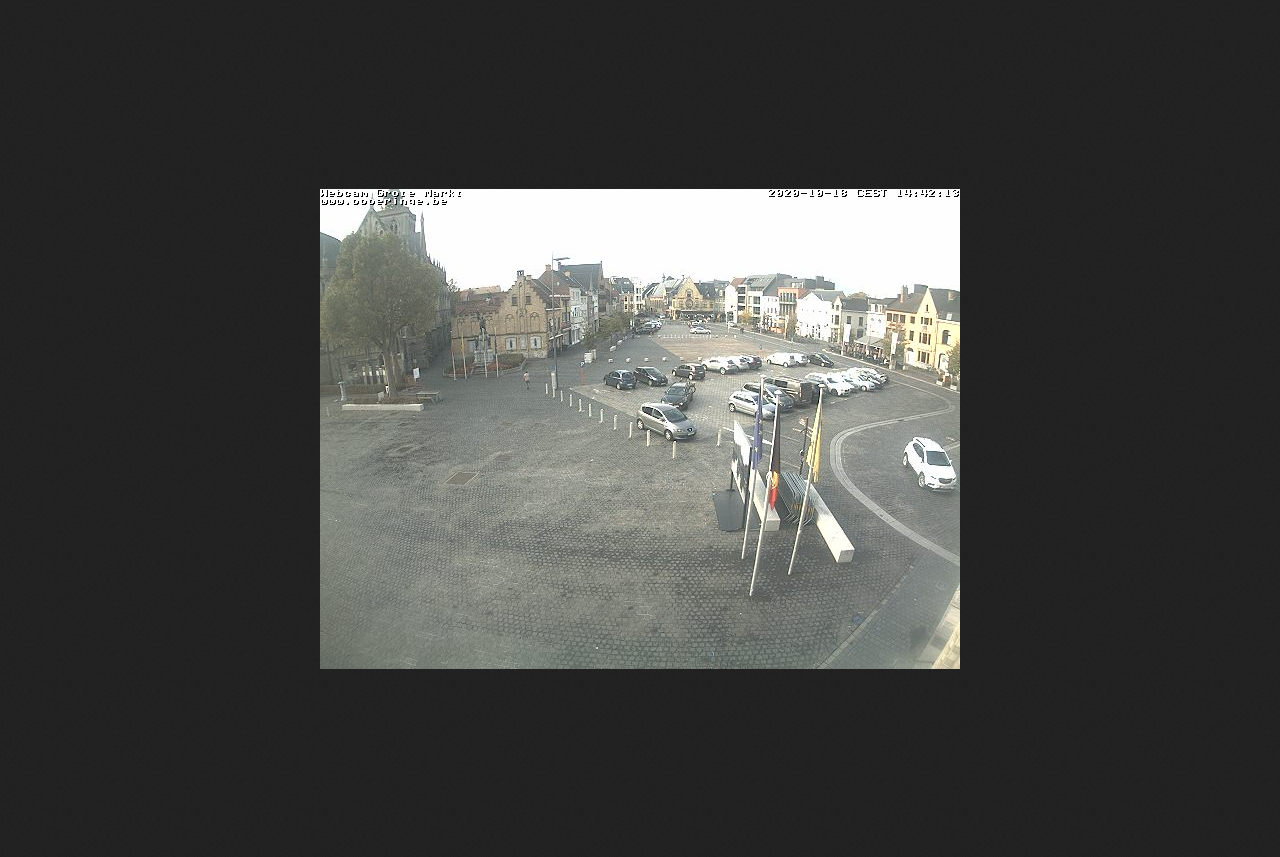no: (763, 406, 788, 483), (804, 402, 826, 483), (747, 390, 766, 474)
